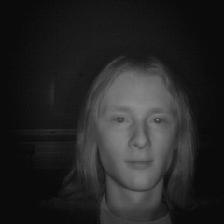normal: (71, 47, 191, 203)
